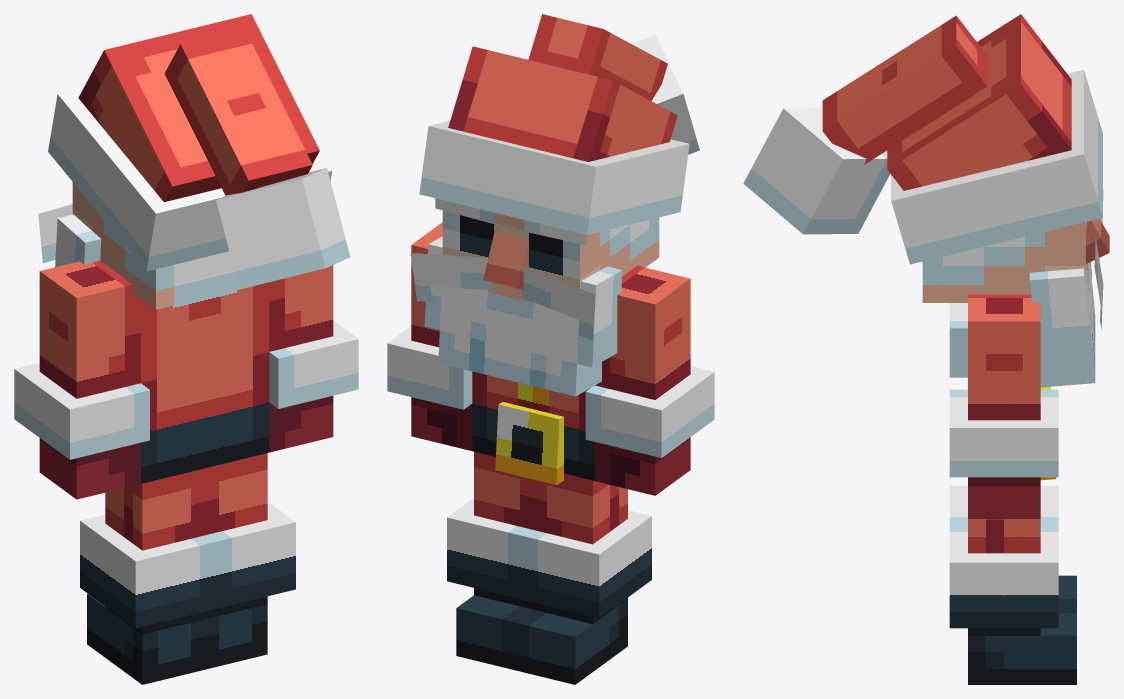
The model's file is Santa C45.gltf.
3 views of the same model, side by side, from view 1: azimuth 30°, elevation 25°; view 2: azimuth 150°, elevation 25°; view 3: azimuth 270°, elevation 25° (orthographic). The views are drawn at different scales.
Parts seen in each view (by area): view 1: body, rightArm, rightLeg, rightPants (×2), rightSleeve, leftLeg, leftArm, leftPants, hat, leftSleeve, beard (×2), hat1 (+2 smaller); view 2: beard (×5), rightPants (×2), rightArm, leftPants (×2), hat, rightSleeve, rightLeg, body, jacket, leftSleeve, leftArm, leftLeg (+2 smaller); view 3: leftArm, leftPants (×2), hat, beard (×3), leftSleeve, leftLeg, rightPants (×2), rightSleeve, hat4.
Part boxes in pixels (left/top/right/bottom): body: left=141, top=282, right=269, bottom=483; rightArm: left=39, top=260, right=140, bottom=499; rightLeg: left=105, top=469, right=206, bottom=684; rightPants (×2): left=80, top=514, right=215, bottom=657; rightSleeve: left=14, top=363, right=149, bottom=459; leftLeg: left=203, top=453, right=267, bottom=668; leftArm: left=269, top=265, right=333, bottom=452; leftPants: left=207, top=502, right=295, bottom=608; hat: left=72, top=182, right=239, bottom=309; leftSleeve: left=269, top=321, right=358, bottom=408; beard (×2): left=38, top=204, right=101, bottom=267; hat1: left=144, top=199, right=171, bottom=227; beard (×5): left=410, top=231, right=622, bottom=396; rightPants (×2): left=514, top=510, right=651, bottom=684; rightArm: left=594, top=265, right=690, bottom=495; leftPants (×2): left=447, top=498, right=534, bottom=670; hat: left=442, top=210, right=659, bottom=288; rightSleeve: left=585, top=366, right=714, bottom=457; rightLeg: left=532, top=473, right=627, bottom=671; body: left=472, top=371, right=594, bottom=480; jacket: left=495, top=402, right=563, bottom=484; leftSleeve: left=387, top=326, right=472, bottom=409; leftArm: left=411, top=222, right=472, bottom=450; leftLeg: left=474, top=451, right=534, bottom=609; leftArm: left=968, top=294, right=1040, bottom=518; leftPants (×2): left=949, top=524, right=1076, bottom=684; hat: left=922, top=222, right=1085, bottom=302; beard (×3): left=1029, top=218, right=1109, bottom=387; leftSleeve: left=949, top=389, right=1058, bottom=477; leftLeg: left=968, top=519, right=1040, bottom=684; rightPants (×2): left=949, top=485, right=1076, bottom=606; rightSleeve: left=949, top=303, right=967, bottom=377; hat4: left=823, top=149, right=853, bottom=174.
Size of the model in its own units: 1.12 by 2.37 by 1.26.
Materials: 1 (1 with a texture image).
